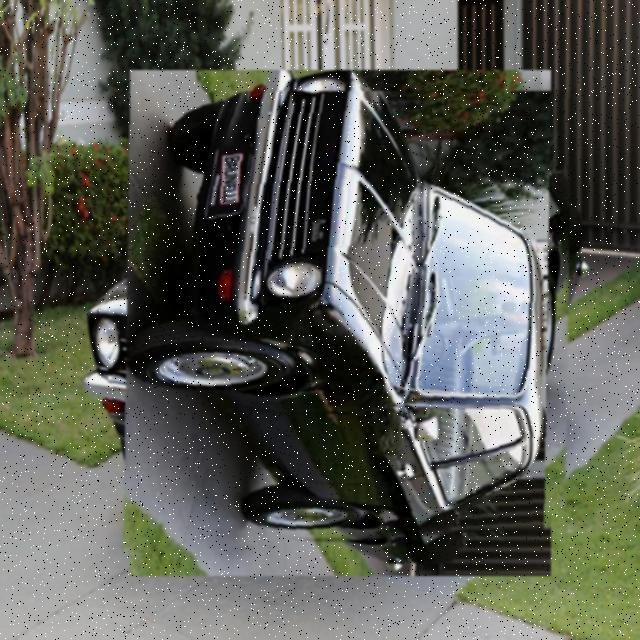car: (110, 92, 574, 556)
